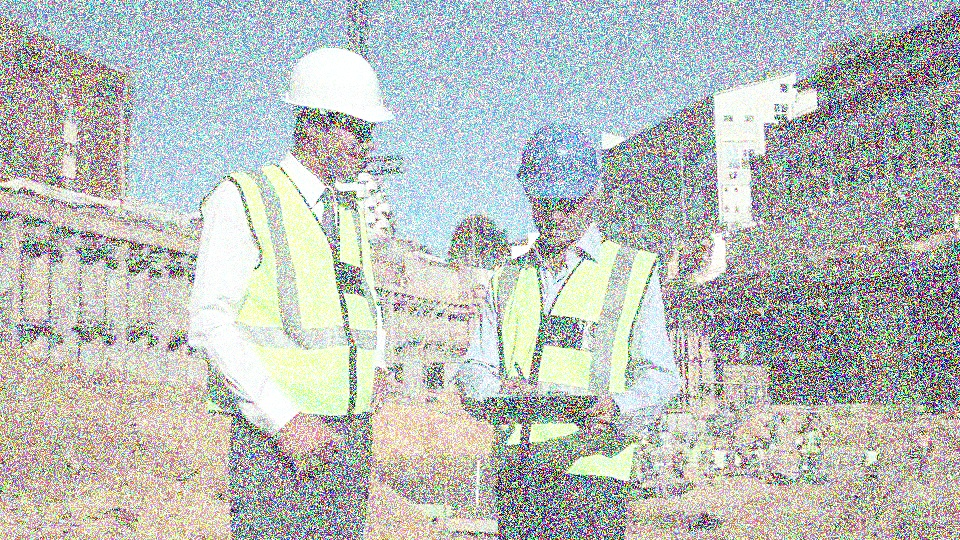helmet: (278, 45, 396, 181), (514, 122, 601, 246), (809, 421, 819, 431), (714, 441, 721, 452)
vest: (458, 230, 691, 484), (192, 158, 388, 412), (806, 433, 820, 452), (711, 450, 725, 468)
